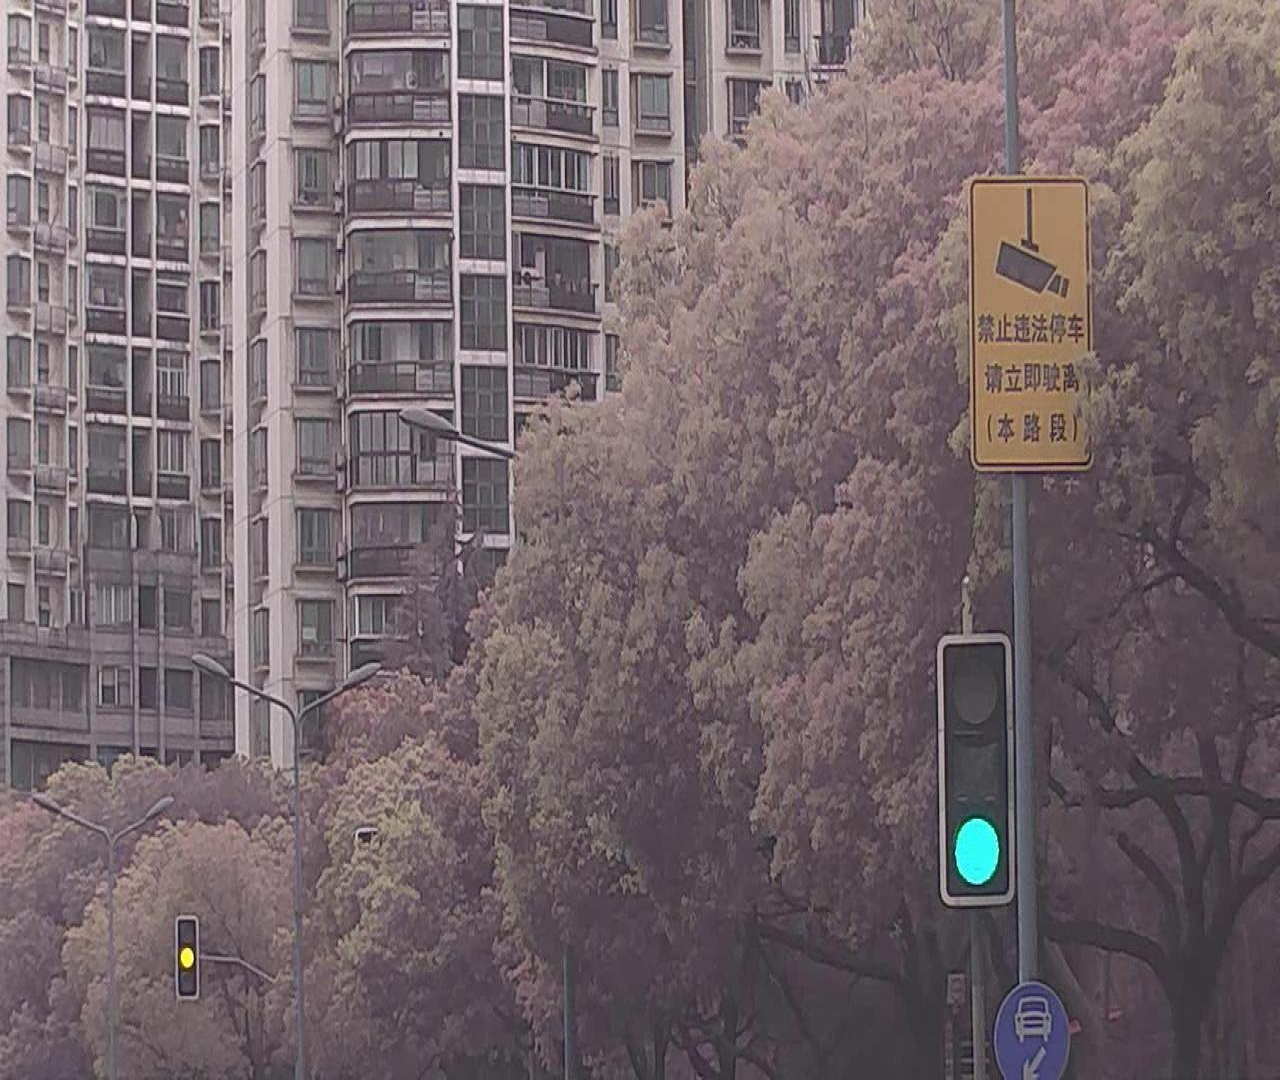green: (937, 633, 1015, 907)
yellow: (175, 913, 201, 1000)
